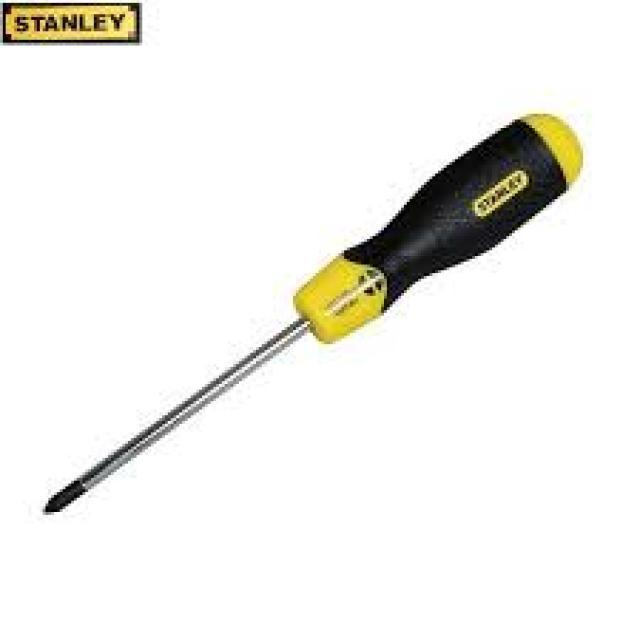screwdriver: (40, 114, 586, 512)
